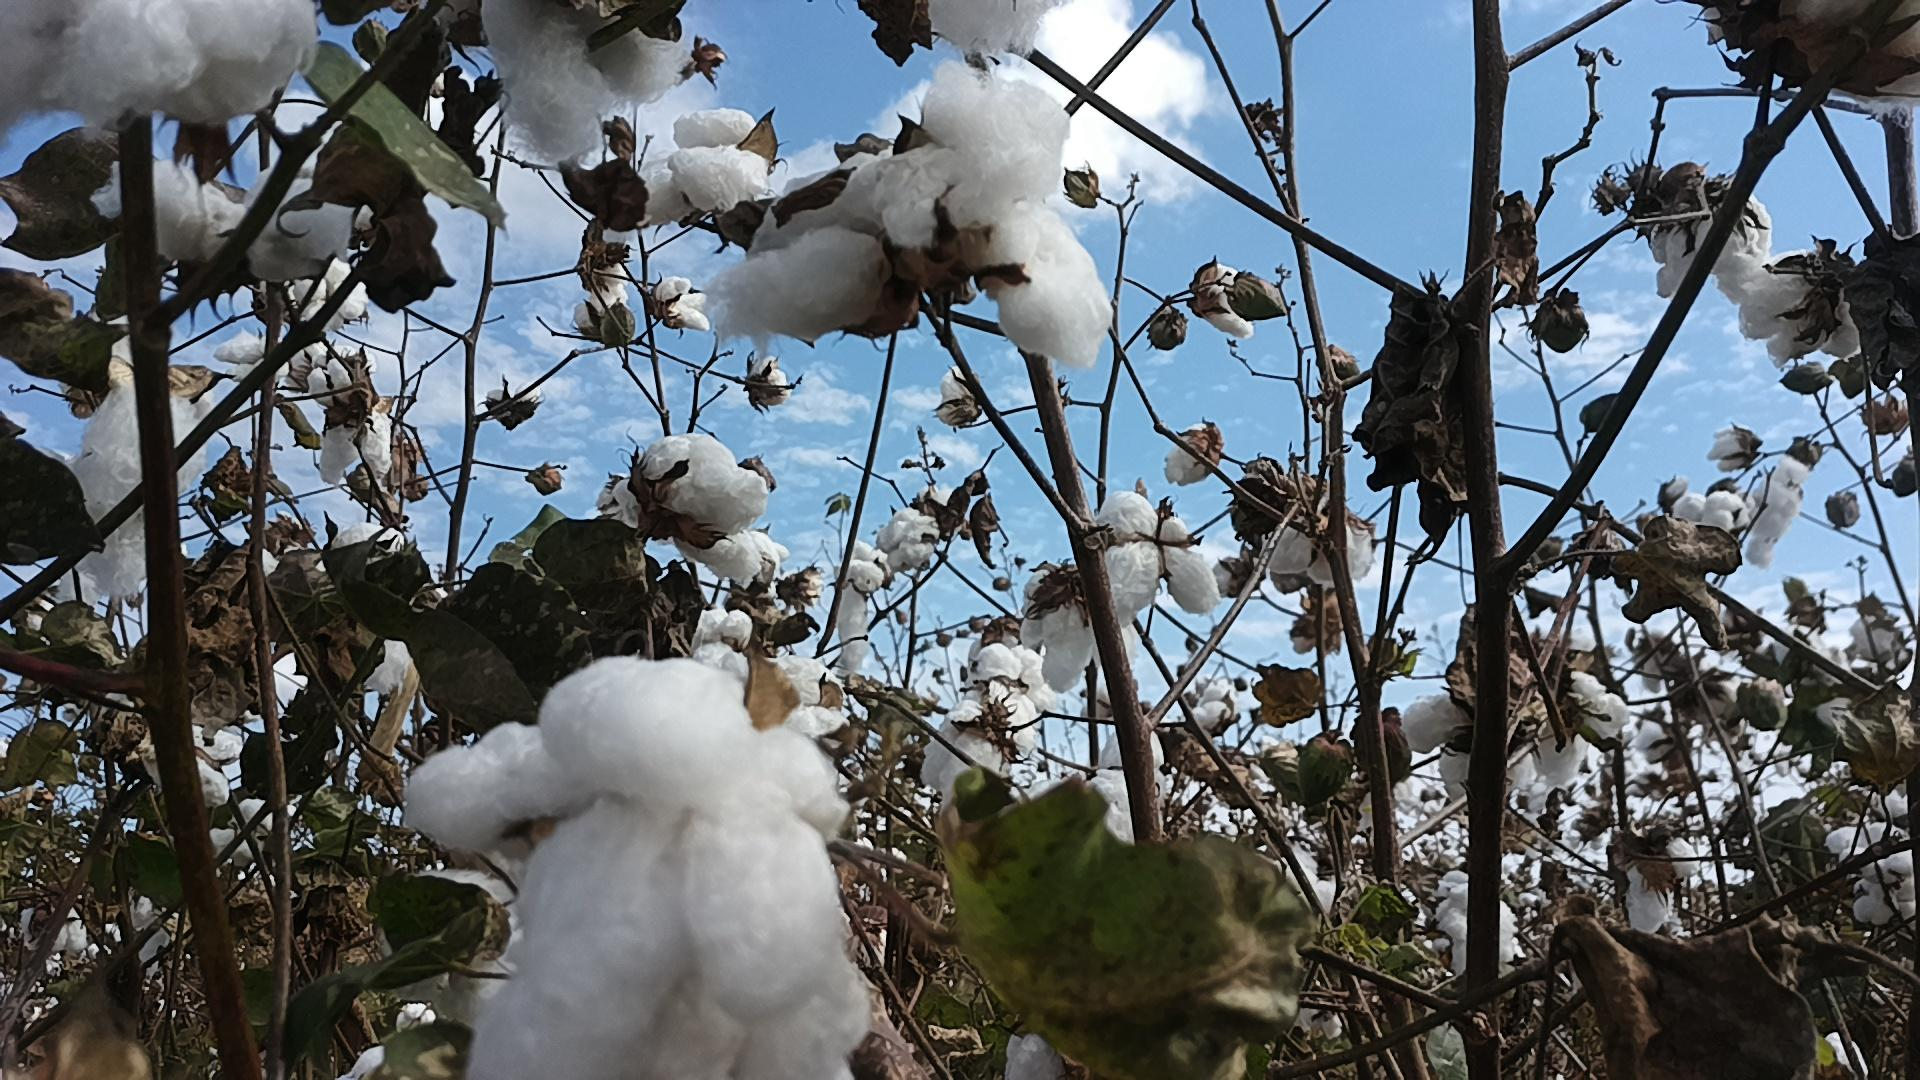cotton_ready: (400, 655, 873, 1080), (708, 69, 1113, 367), (0, 0, 331, 128), (94, 153, 373, 286), (488, 0, 688, 164), (70, 381, 211, 603), (633, 107, 774, 225), (1735, 245, 1869, 368), (1097, 491, 1225, 617), (632, 429, 773, 543), (1399, 691, 1543, 800), (919, 694, 1043, 808), (1651, 189, 1778, 301), (1535, 671, 1631, 789), (902, 0, 1065, 66), (1018, 567, 1104, 688), (1623, 837, 1701, 932), (318, 406, 398, 479), (973, 646, 1058, 709)
